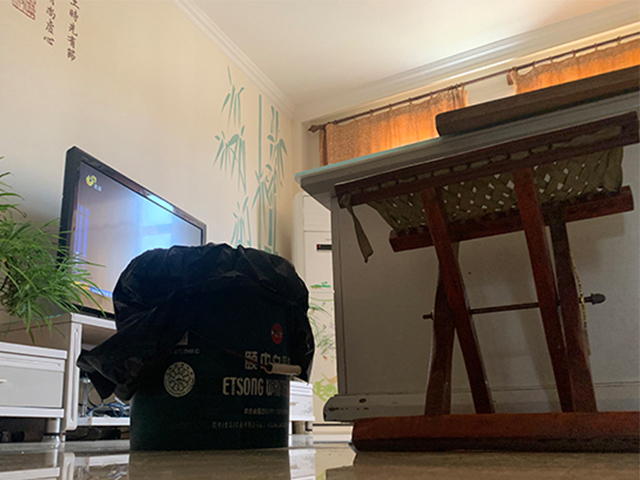cabinet: (1, 310, 89, 445)
stool: (334, 111, 640, 454)
table: (294, 89, 640, 423)
